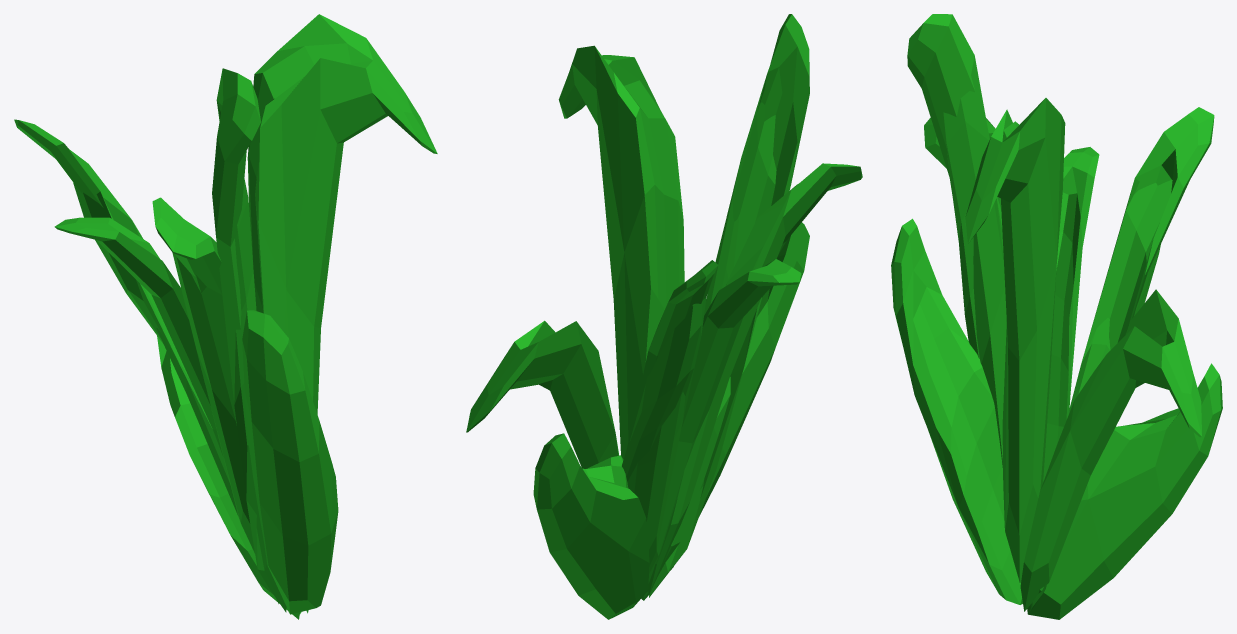
The model's file is grass.fbx.
3 views of the same model, side by side, from view 1: azimuth 30°, elevation 25°; view 2: azimuth 150°, elevation 25°; view 3: azimuth 270°, elevation 25° (orthographic). The views are drawn at different scales.
Parts seen in each view (by area): view 1: Cube.011, Cube.013, Cube.012, Cube.009, Cube.007, Cube.006, Cube.008; view 2: Cube.011, Cube.008, Cube.012, Cube.007, Cube.010, Cube.009, Cube.006, Cube.013; view 3: Cube.011, Cube.013, Cube.008, Cube.010, Cube.012, Cube.007, Cube.006, Cube.009.
Part boxes in pixels (x1=…): Cube.011: x1=247, y1=14, x2=437, y2=414; Cube.013: x1=242, y1=310, x2=338, y2=614; Cube.012: x1=212, y1=68, x2=286, y2=612; Cube.009: x1=152, y1=197, x2=279, y2=603; Cube.007: x1=14, y1=119, x2=301, y2=614; Cube.006: x1=54, y1=217, x2=223, y2=457; Cube.008: x1=157, y1=336, x2=299, y2=619; Cube.011: x1=558, y1=45, x2=684, y2=459; Cube.008: x1=533, y1=433, x2=649, y2=619; Cube.012: x1=649, y1=14, x2=809, y2=597; Cube.007: x1=622, y1=260, x2=718, y2=566; Cube.010: x1=466, y1=320, x2=619, y2=468; Cube.009: x1=648, y1=163, x2=862, y2=594; Cube.006: x1=649, y1=259, x2=801, y2=573; Cube.013: x1=641, y1=222, x2=809, y2=600; Cube.011: x1=965, y1=98, x2=1065, y2=582; Cube.013: x1=891, y1=218, x2=1022, y2=604; Cube.008: x1=1027, y1=363, x2=1222, y2=619; Cube.010: x1=1020, y1=289, x2=1201, y2=611; Cube.012: x1=907, y1=14, x2=1006, y2=467; Cube.007: x1=1030, y1=107, x2=1214, y2=611; Cube.006: x1=1043, y1=147, x2=1099, y2=481; Cube.009: x1=924, y1=117, x2=1002, y2=228.
Size of the model in its own units: 139 by 259 by 141.
